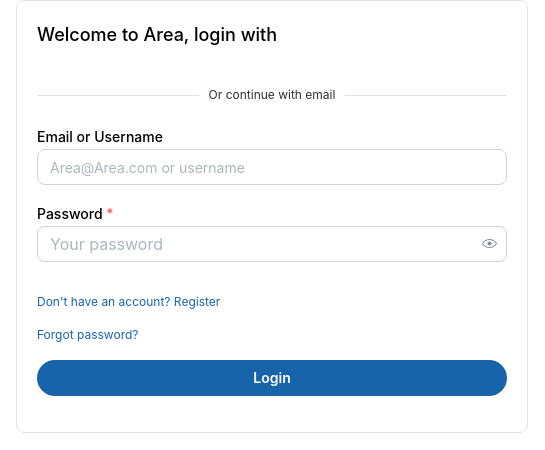
AuthenticationForm › switches to forgot password mode
Click the button "Forgot password?" at (88, 335), box [37,327,138,344]
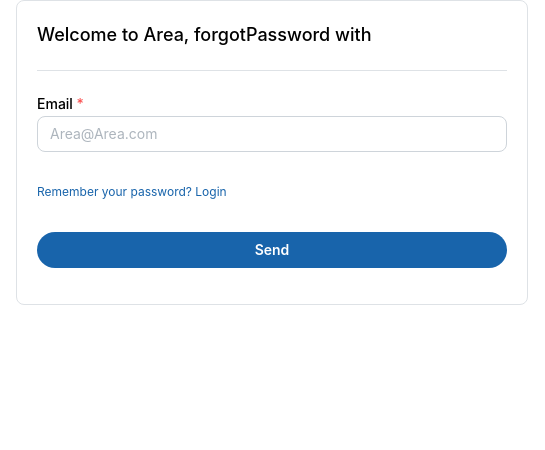
Expected: the text "Welcome to Area, forgotPassword with" is shown, [37,24,372,45]
Expected: the button "Send" is shown, [255,241,289,258]
